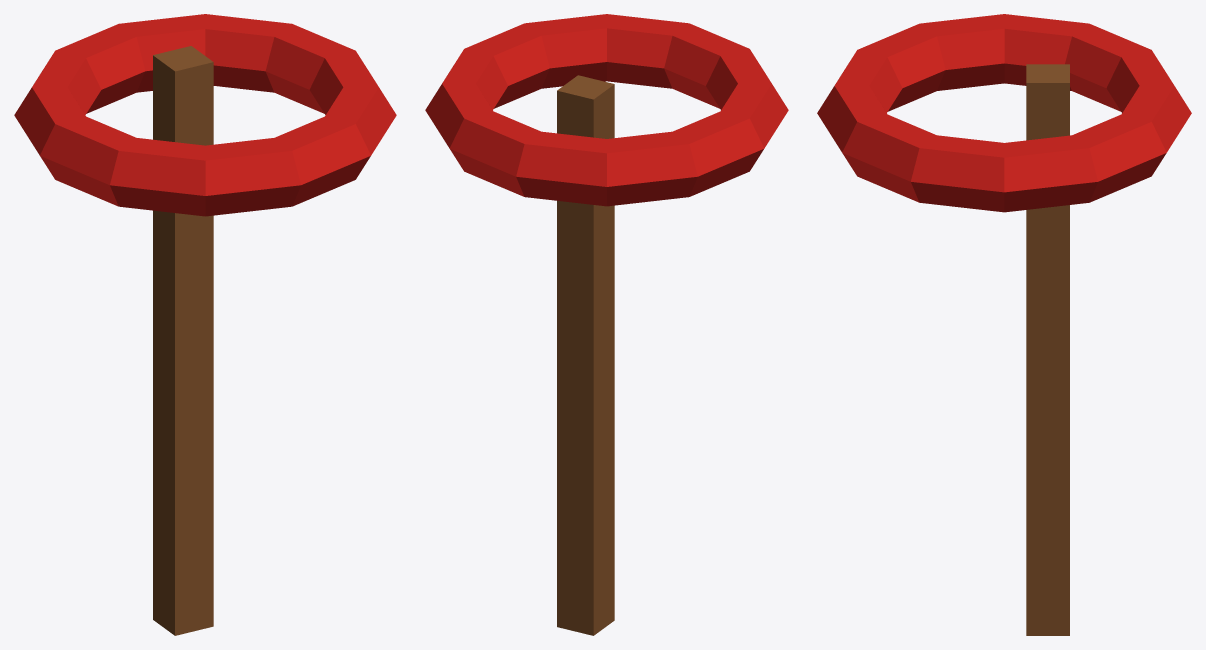
The model's file is life_ring_stand.glb.
The picture shows the model from 3 angles, left to right: view 1: azimuth 30°, elevation 25°; view 2: azimuth 150°, elevation 25°; view 3: azimuth 270°, elevation 25°; orthographic projection. The views are drawn at different scales.
Visible parts, largest first — view 1: life_ring_stand; view 2: life_ring_stand; view 3: life_ring_stand.
Part boxes in pixels (left/top/right/bottom): life_ring_stand: left=14, top=14, right=396, bottom=635; life_ring_stand: left=425, top=14, right=788, bottom=635; life_ring_stand: left=817, top=14, right=1191, bottom=635.
Size of the model in its own units: 0.86 by 1.4 by 0.86.
